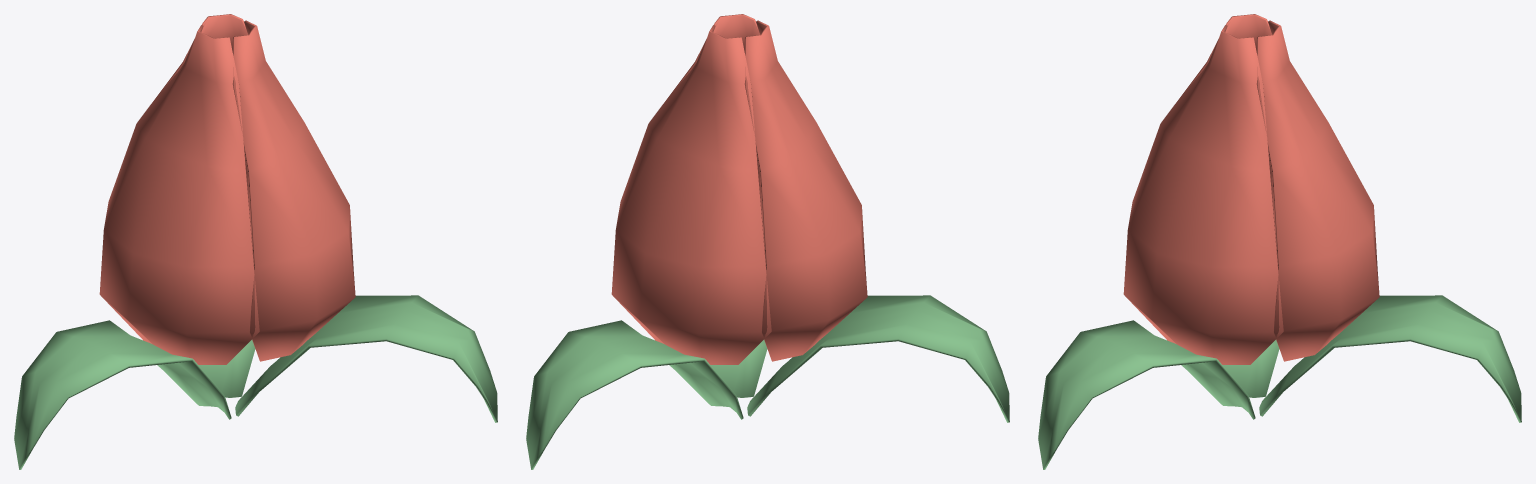
The model's file is bubble_flower.fbx.
3 views of the same model, side by side, from view 1: azimuth 30°, elevation 25°; view 2: azimuth 150°, elevation 25°; view 3: azimuth 270°, elevation 25° (orthographic).
Parts seen in each view (by area): view 1: Bubble_flower; view 2: Bubble_flower; view 3: Bubble_flower.
Part boxes in pixels (bbox=[...]): Bubble_flower: bbox=[14, 14, 497, 469]; Bubble_flower: bbox=[526, 14, 1009, 469]; Bubble_flower: bbox=[1038, 14, 1521, 469].
Bounding box in the file's own units: 109 × 95.52 × 110.
